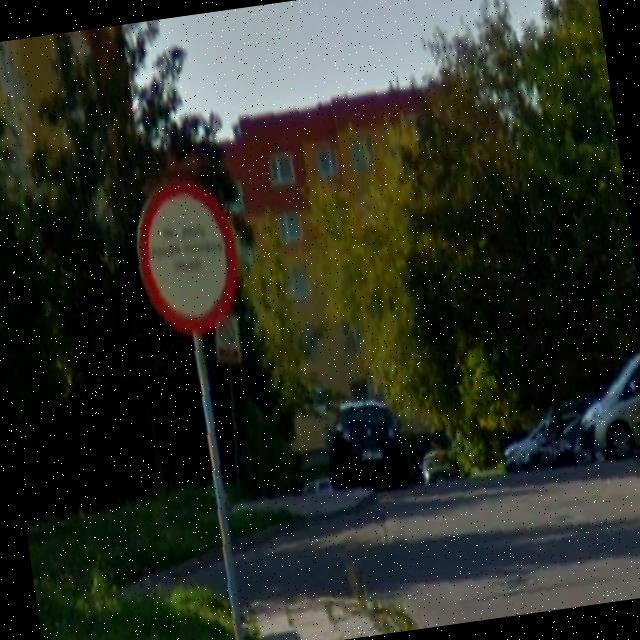Zakaz ruchu w obu kierunkach: (130, 173, 247, 337)
